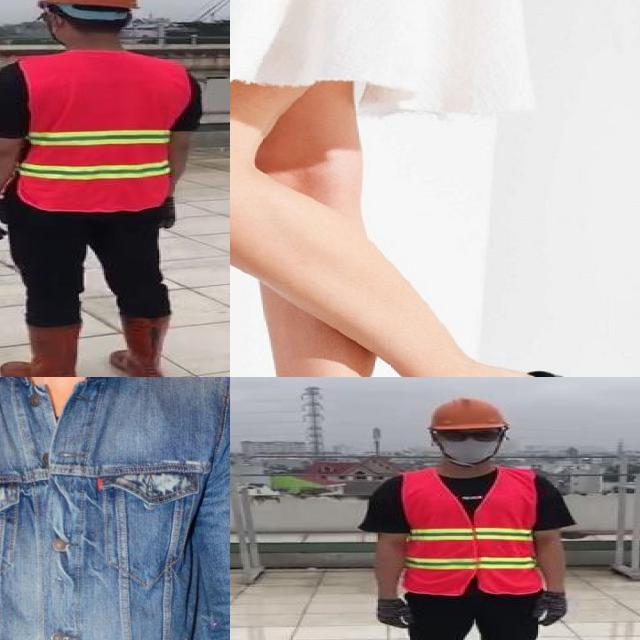boots: (0, 324, 91, 377), (109, 313, 169, 377)
face_mask: (433, 428, 504, 463)
glasses: (437, 426, 502, 446)
hand_glove: (533, 590, 575, 629), (373, 599, 415, 630), (0, 202, 18, 240)
head_helmet: (426, 396, 511, 432), (33, 0, 145, 9)
person: (0, 0, 212, 377), (363, 395, 571, 640)
vest: (11, 51, 188, 211), (399, 471, 540, 596)
